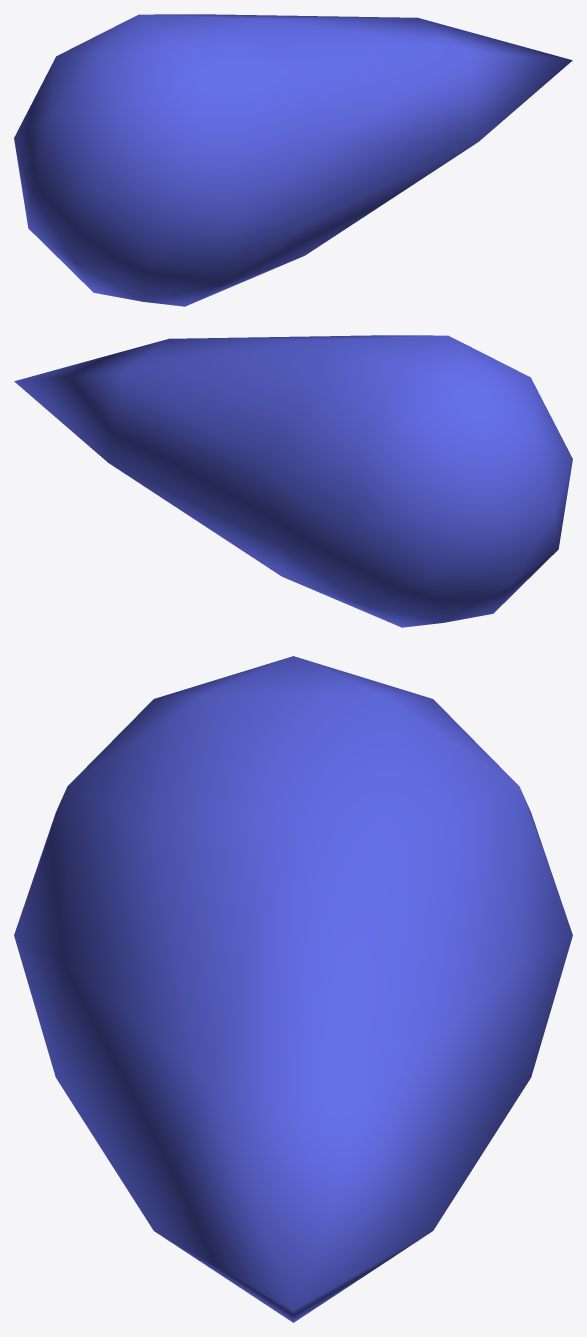
Rendered from projectile.fbx.
3 views of the same model, one above another, from view 1: azimuth 30°, elevation 25°; view 2: azimuth 150°, elevation 25°; view 3: azimuth 270°, elevation 25° (orthographic). The views are drawn at different scales.
Visible parts, largest first — view 1: Icosphere; view 2: Icosphere; view 3: Icosphere.
Boxes of the visible parts, bbox=[...] form: Icosphere: bbox=[14, 14, 572, 306]; Icosphere: bbox=[14, 335, 572, 627]; Icosphere: bbox=[14, 656, 572, 1322].
Size of the model in its own units: 65.96 by 30.09 by 31.64.
